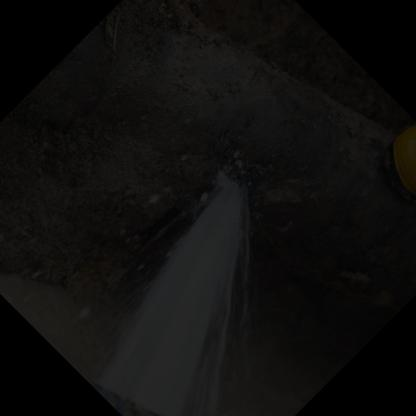burst: (189, 153, 289, 247)
